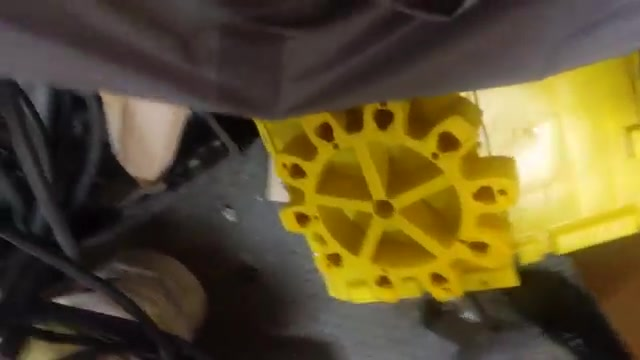gear: (270, 73, 515, 320)
